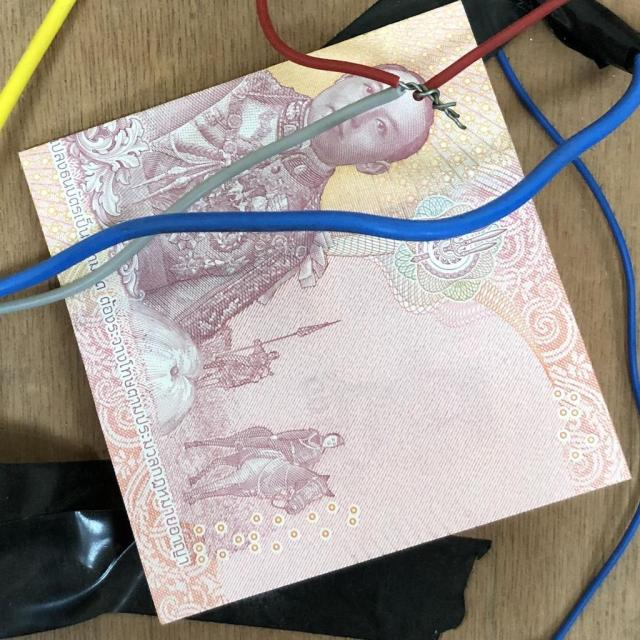THAI100: (66, 200, 629, 622), (21, 62, 384, 255), (191, 61, 523, 219)
